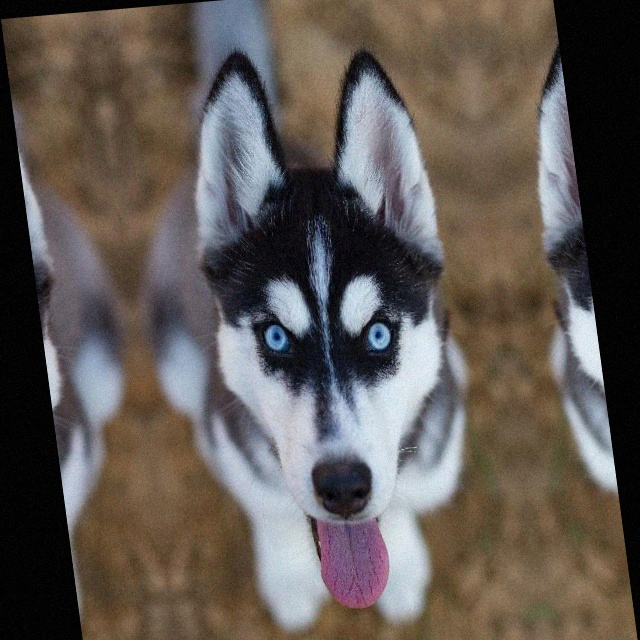dog: (132, 32, 492, 640), (7, 62, 143, 640), (514, 20, 634, 615)
